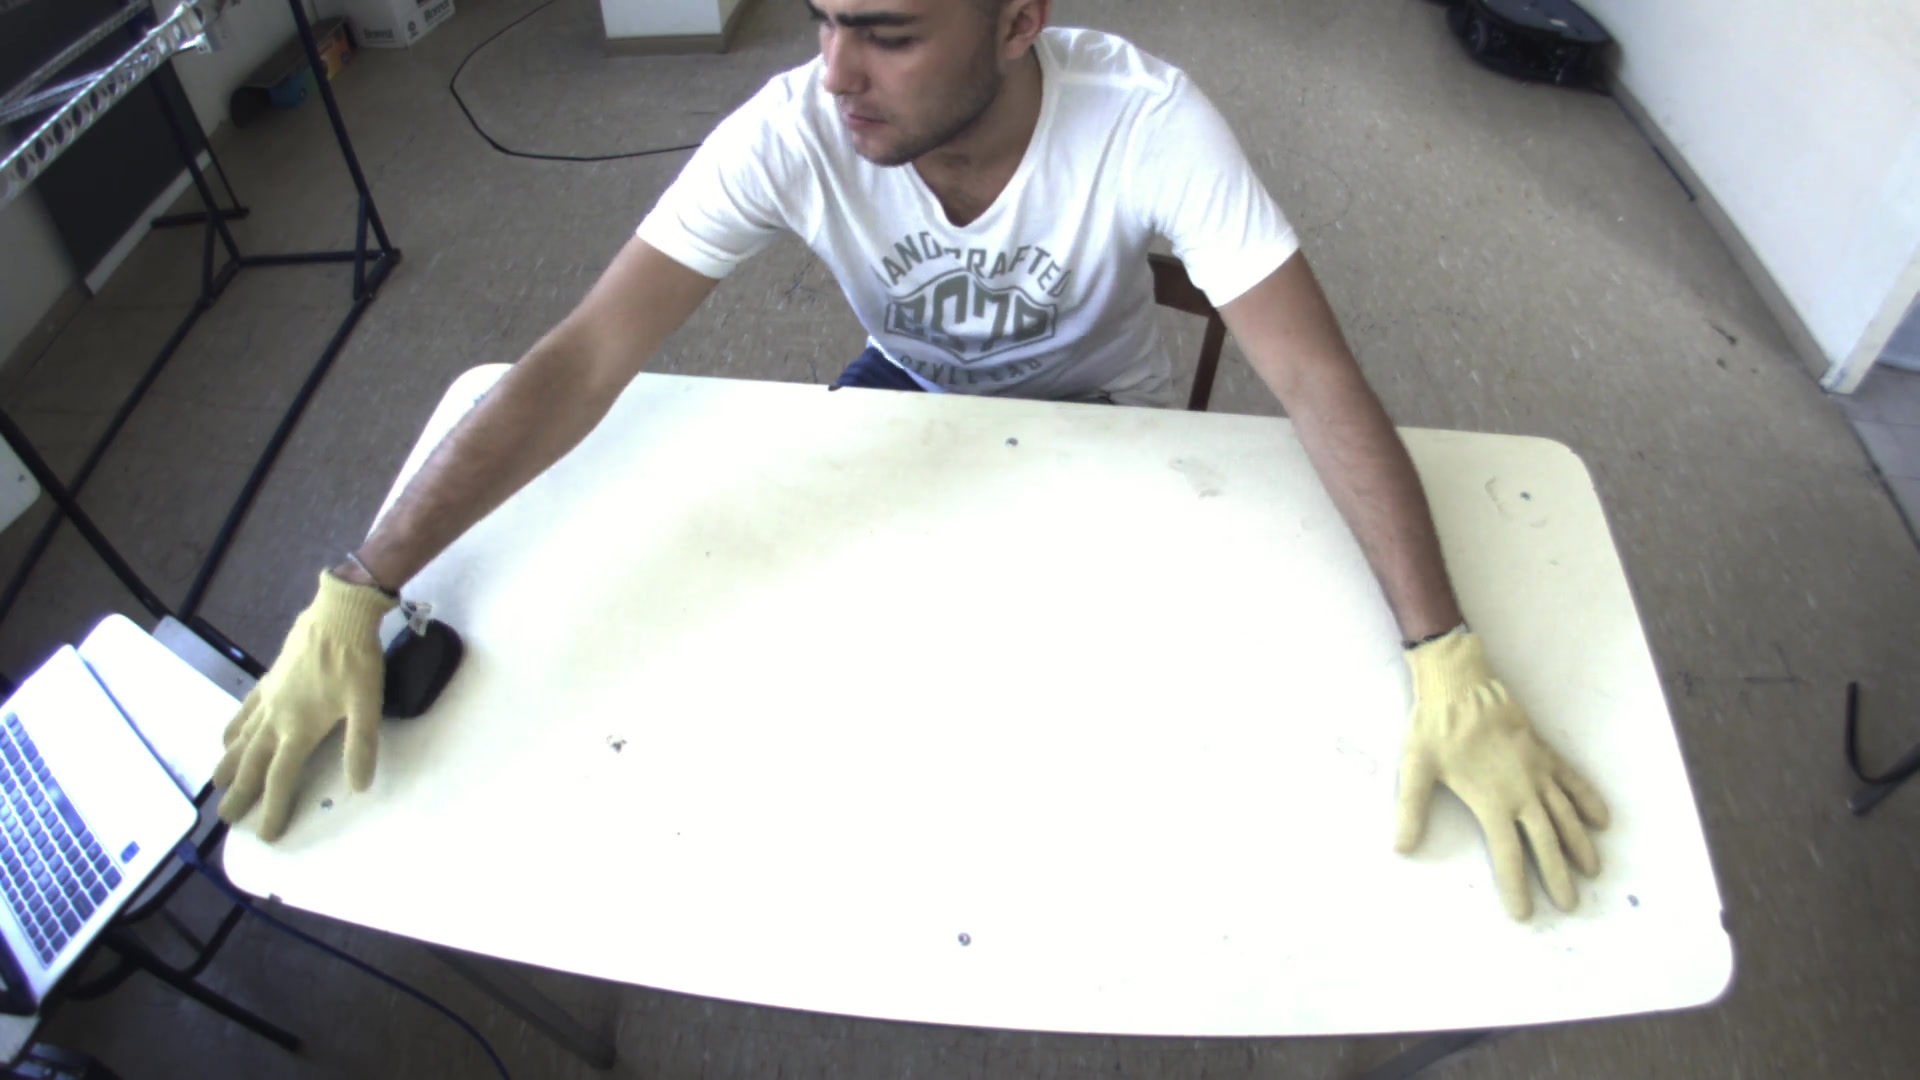hand: (1387, 626, 1633, 930), (194, 564, 411, 853)
